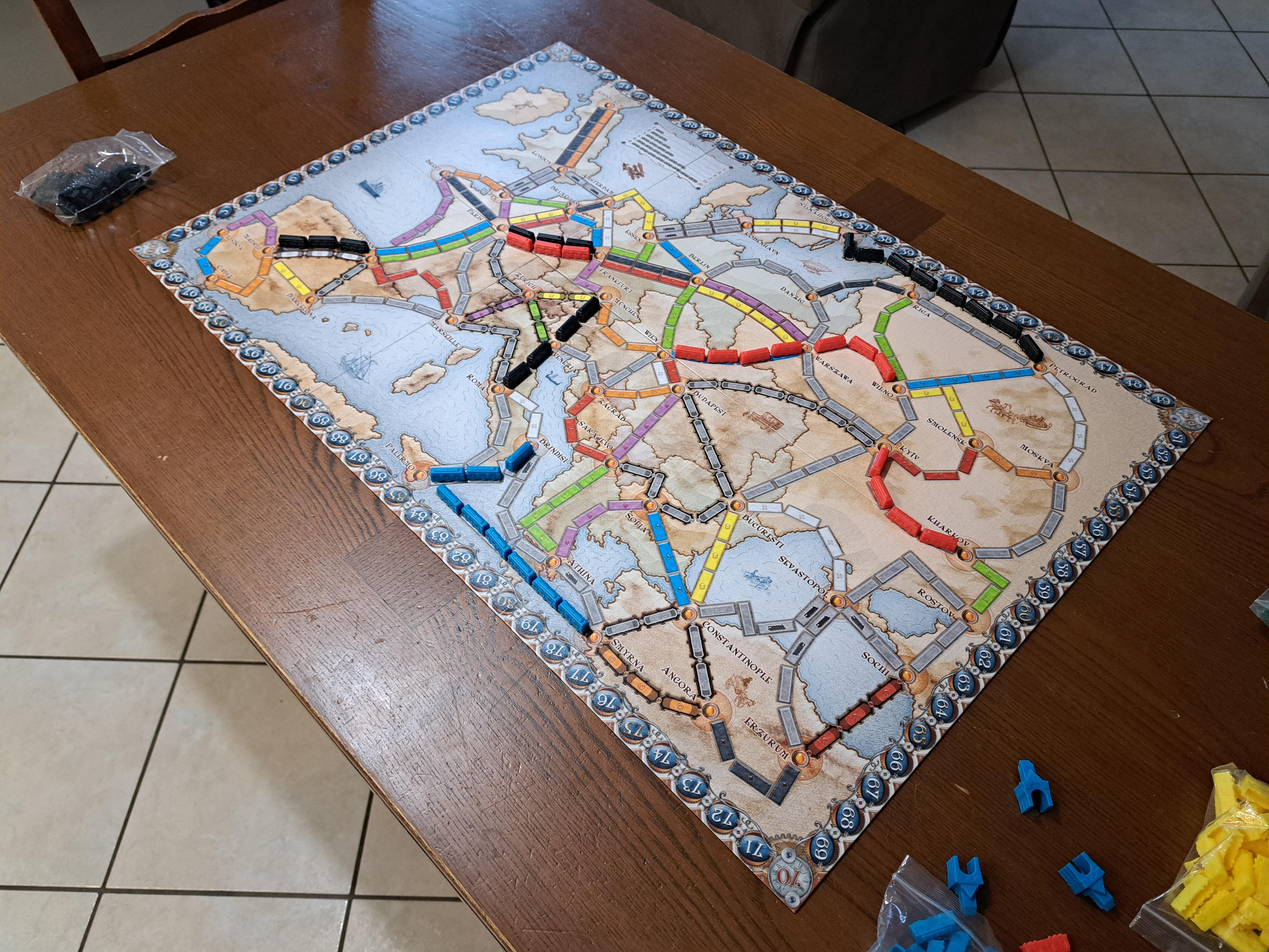corner_bl: (130, 235, 174, 265)
corner_br: (757, 845, 822, 910)
corner_tl: (544, 42, 575, 62)
corner_tr: (1164, 403, 1212, 435)
